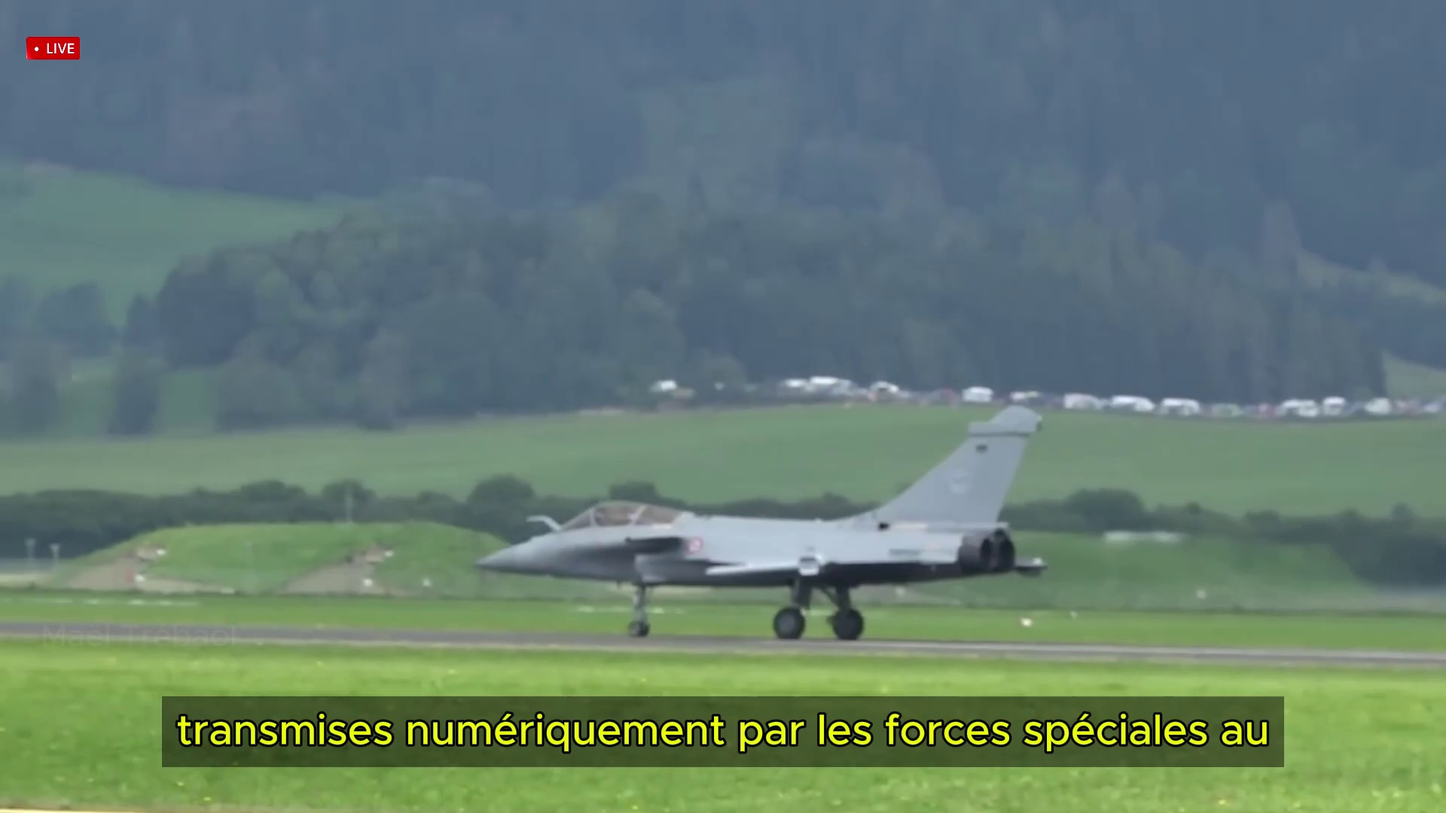Rafale: (478, 410, 1046, 644)
